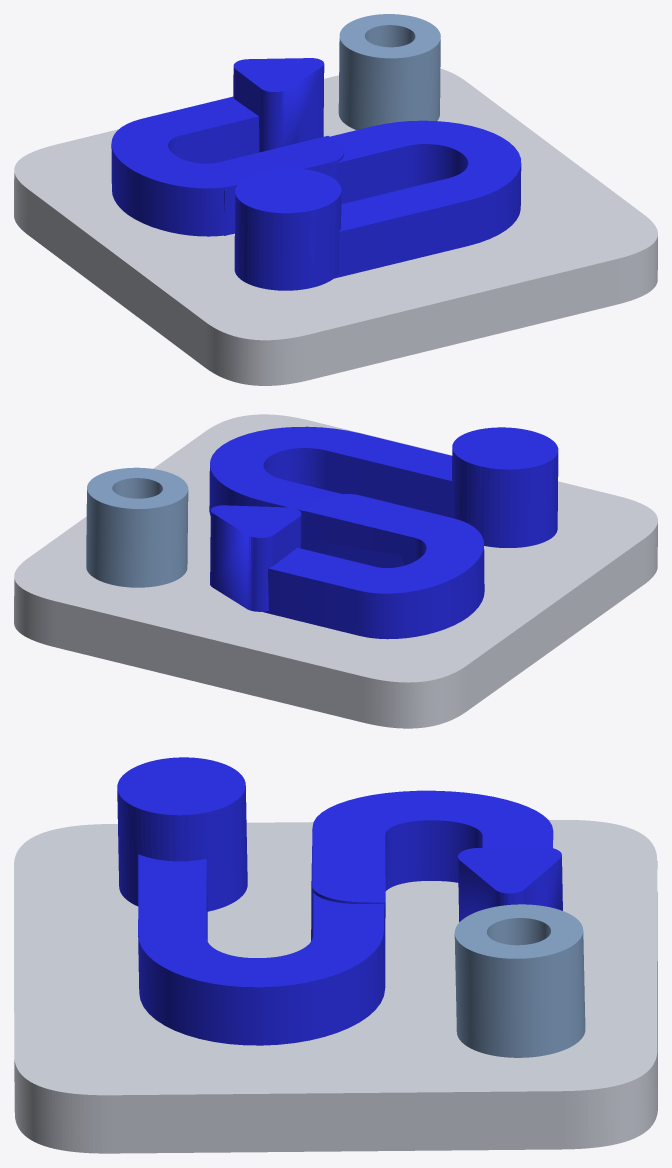
The model's file is plan_icon1.glb.
3 views of the same model, one above another, from view 1: azimuth 30°, elevation 25°; view 2: azimuth 150°, elevation 25°; view 3: azimuth 270°, elevation 25° (orthographic). The views are drawn at different scales.
Visible parts, largest first — view 1: Rectangle, Merged Geometry, Ellipse, Boolean, Triangle; view 2: Rectangle, Merged Geometry, Ellipse, Boolean, Triangle; view 3: Rectangle, Merged Geometry, Boolean, Ellipse, Triangle.
Part boxes in pixels (x1,y1,x2,y2): Rectangle: [14, 68, 657, 385]; Merged Geometry: [111, 96, 521, 278]; Ellipse: [234, 168, 341, 290]; Boolean: [338, 14, 440, 129]; Triangle: [233, 58, 324, 152]; Rectangle: [14, 414, 657, 728]; Merged Geometry: [209, 426, 484, 639]; Ellipse: [451, 427, 558, 547]; Boolean: [86, 467, 188, 587]; Triangle: [210, 505, 301, 611]; Rectangle: [14, 820, 657, 1153]; Merged Geometry: [138, 790, 553, 1045]; Boolean: [454, 904, 585, 1057]; Ellipse: [117, 757, 247, 911]; Triangle: [458, 847, 562, 921].
Bounding box in the file's own units: 9.39 × 2.68 × 9.4.
